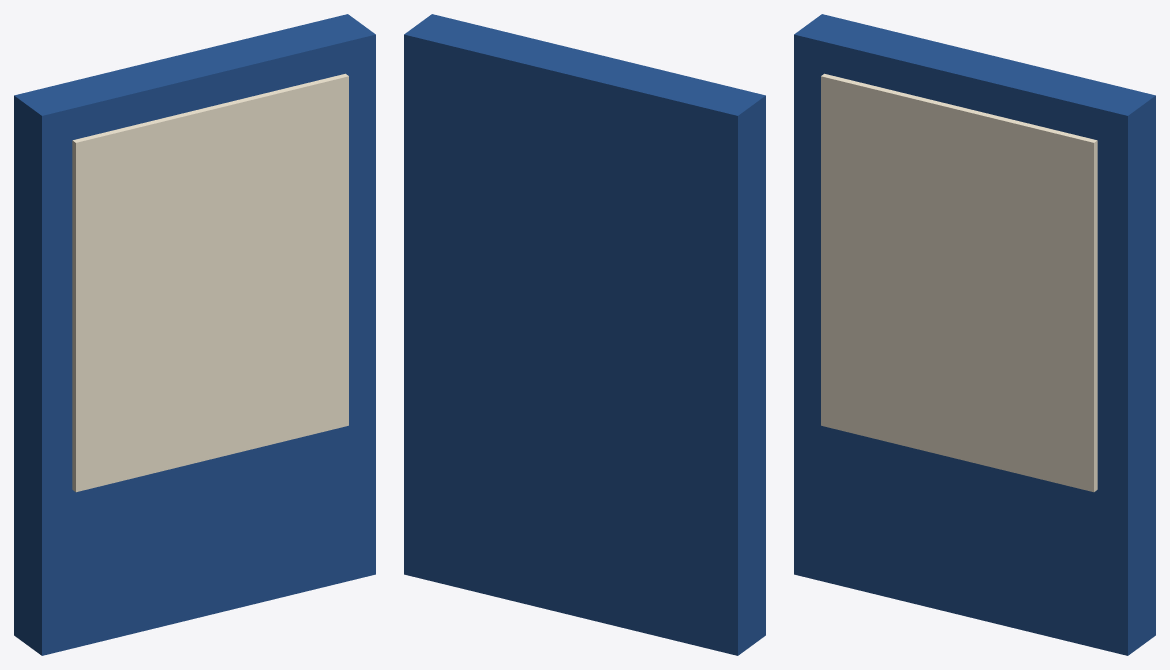
The model's file is mall_directory.glb.
The picture shows the model from 3 angles, left to right: view 1: azimuth 30°, elevation 25°; view 2: azimuth 150°, elevation 25°; view 3: azimuth 330°, elevation 25°; orthographic projection.
Visible parts, largest first — view 1: Box1, Box2; view 2: Box1; view 3: Box1, Box2.
Boxes of the visible parts, box(x1,y1,x2,y2) form: Box1: box(14, 14, 375, 655); Box2: box(72, 73, 348, 492); Box1: box(404, 14, 765, 655); Box1: box(794, 14, 1155, 655); Box2: box(821, 73, 1097, 492).
Bounding box in the file's own units: 1.1 × 1.7 × 0.18.
